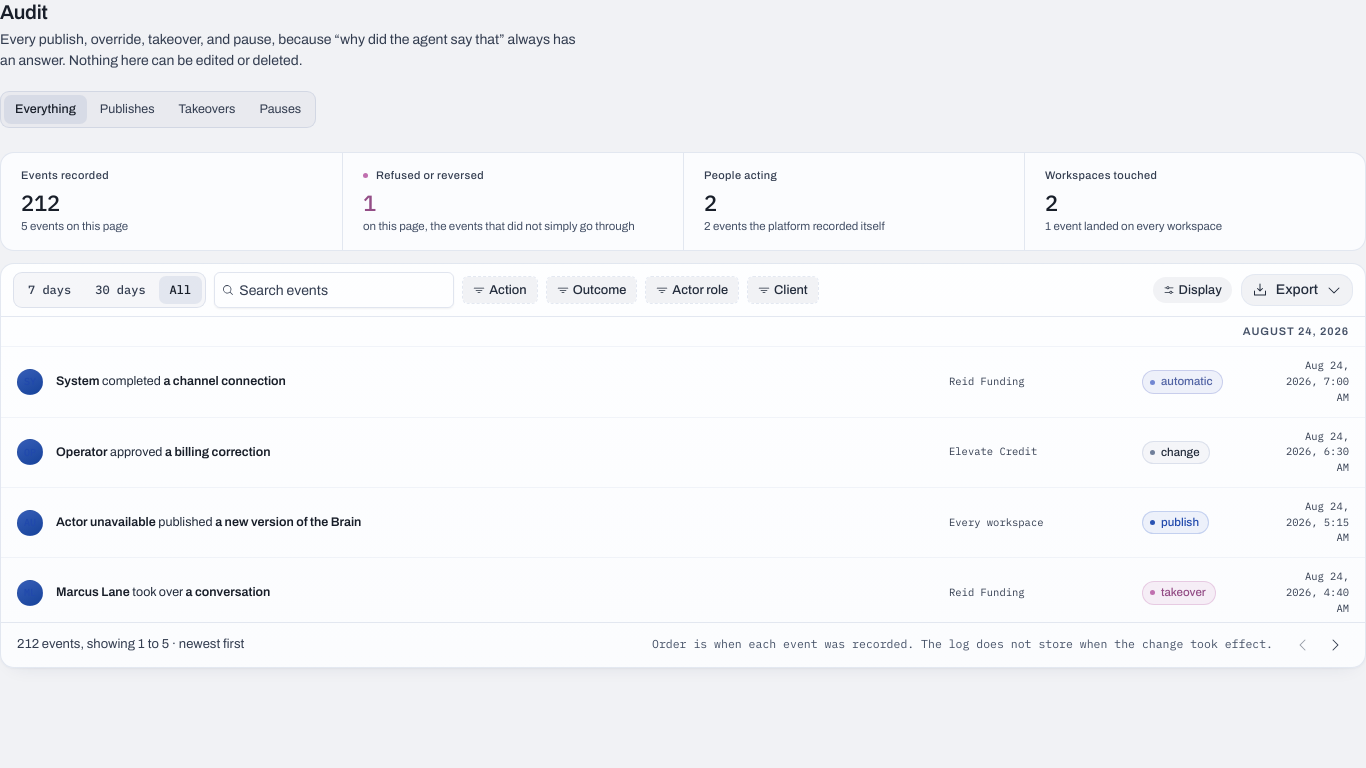
Test case: AdminAuditLog craft › opens the event drawer with lineage, related, and copyable ids
The image size is (1366, 768).
Click the button with aria-label "Open event detail: Approved a billing correction" at (82, 452), box [1,418,1365,488]
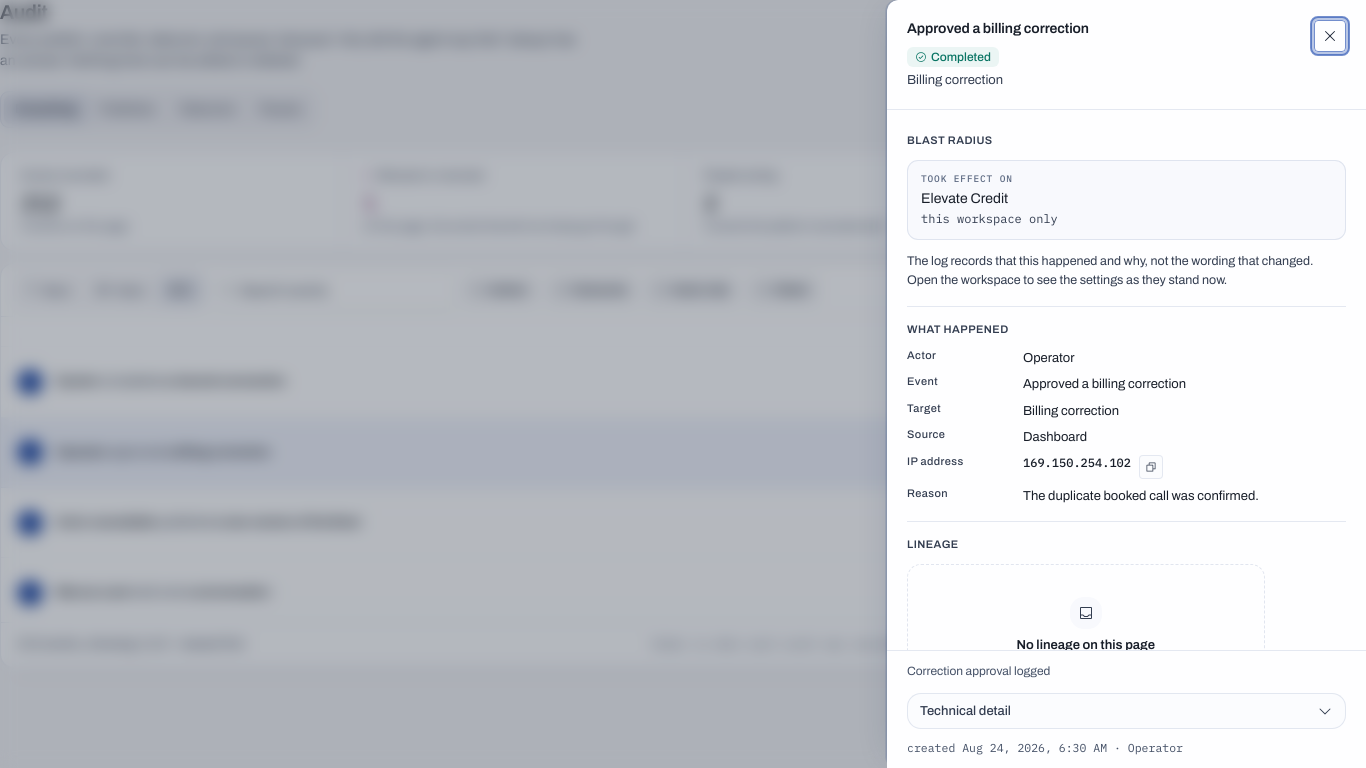
Now the dialog shows "Approved a billing correction", box [907,21,1089,36]
Now the heading "What happened" is shown, box [907,323,1009,337]
Now the heading "Lineage" is shown, box [907,538,959,552]
